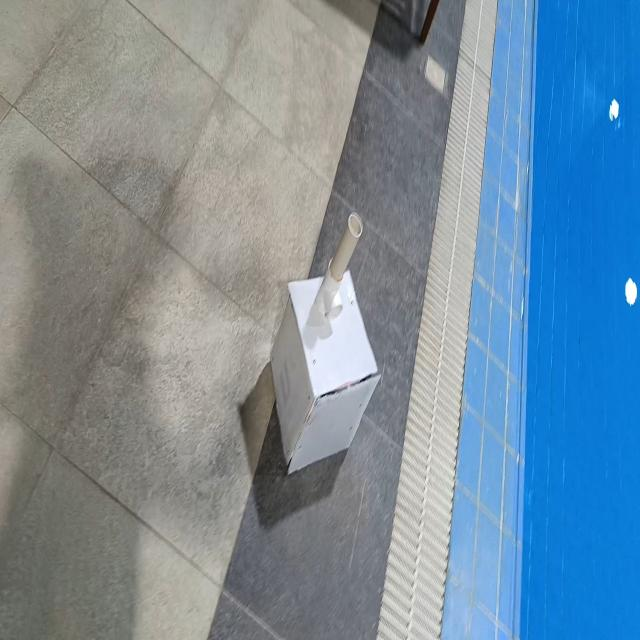Cube: (269, 266, 383, 476)
